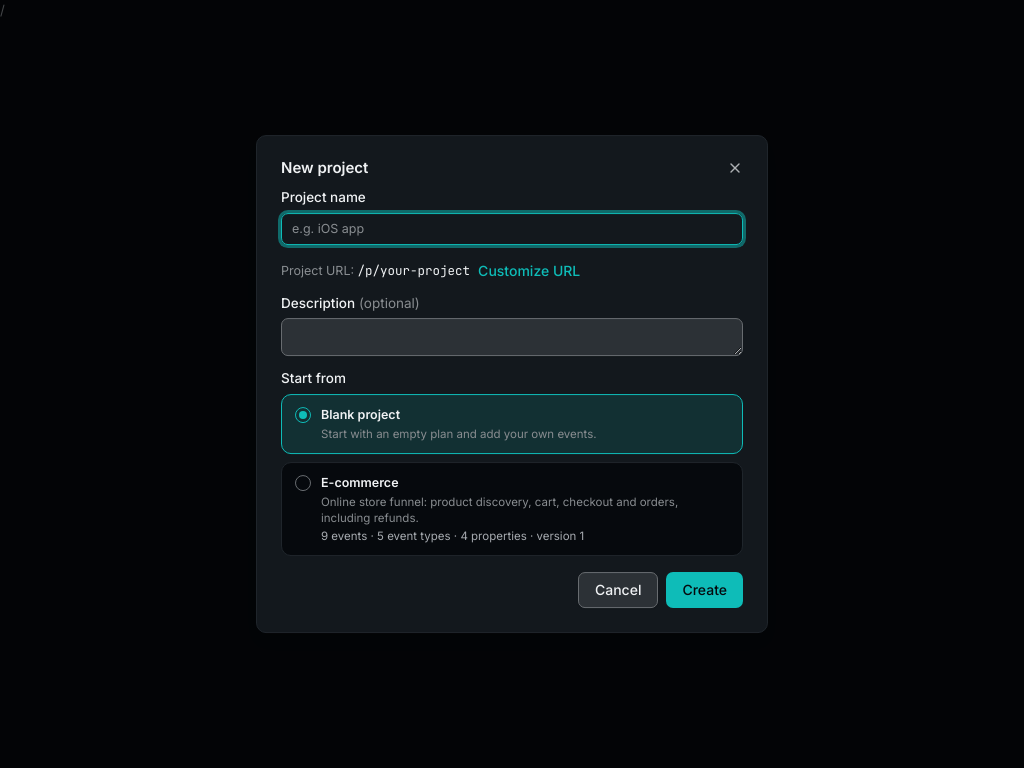
Test case: CreateProjectDialog › creates a blank project with the same body as before and opens its overview
Expected: the radio button labelled "E-commerce" is shown, [281, 462, 743, 556]
In the field labelled "Project name": point(512, 229) [281, 213, 743, 245], type "Shop Web"
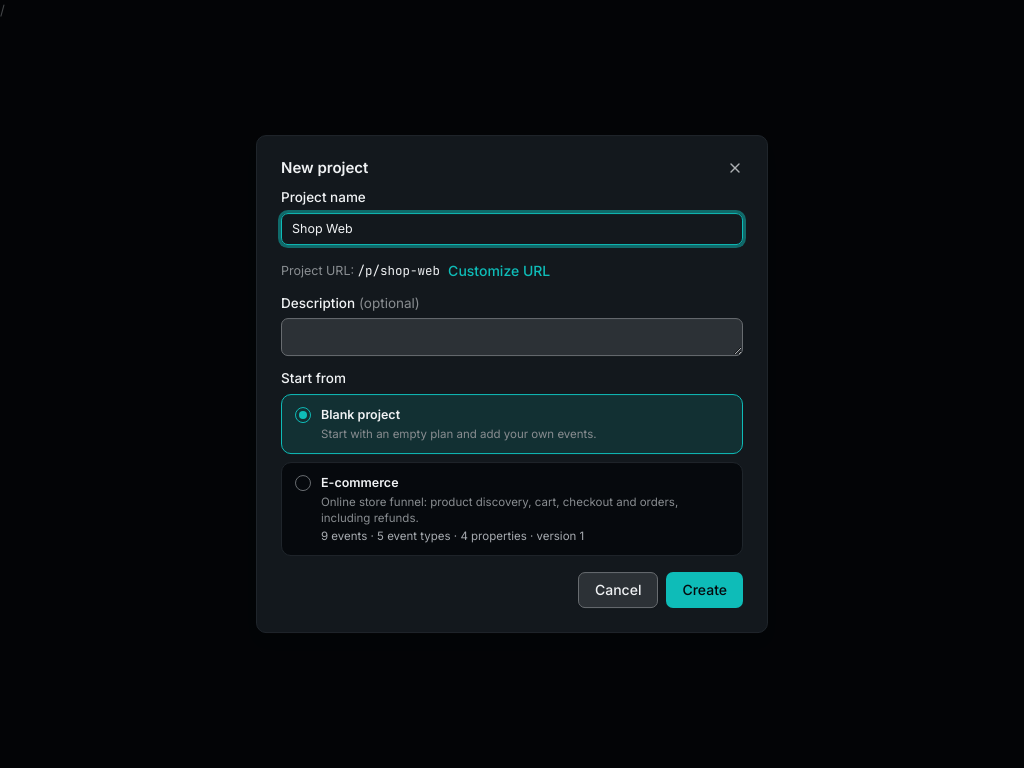
Click the button "Create": point(705, 590) [666, 572, 743, 608]
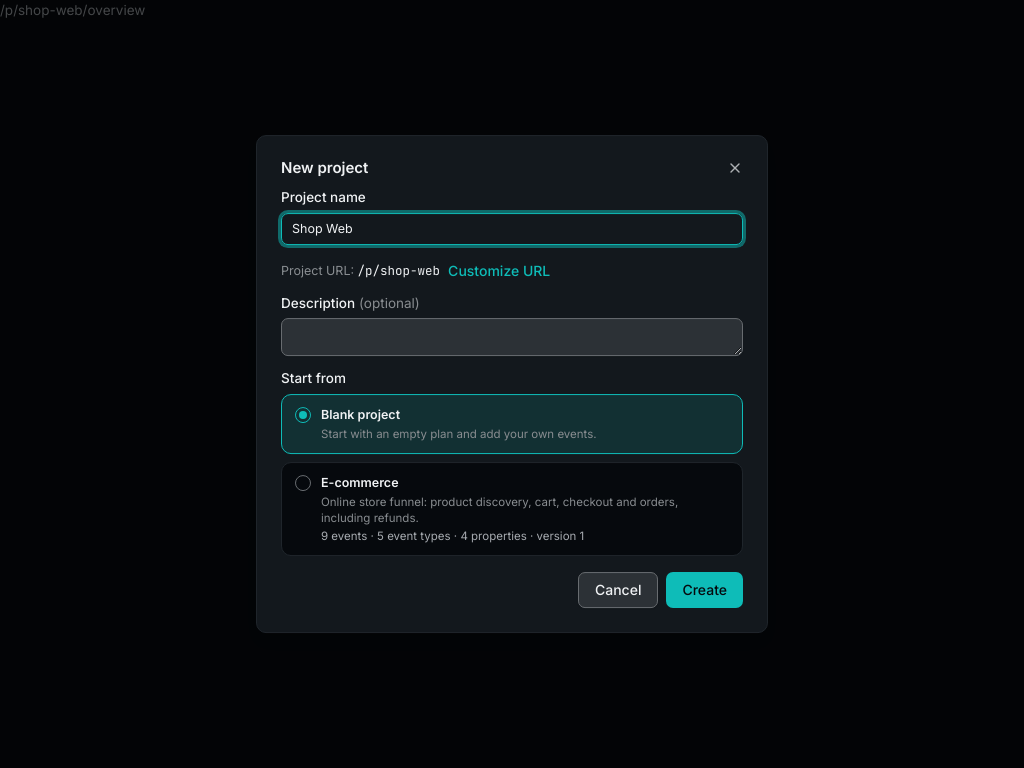
Expected: the text with test id "location" reads "/p/shop-web/overview", [0, 2, 145, 18]
